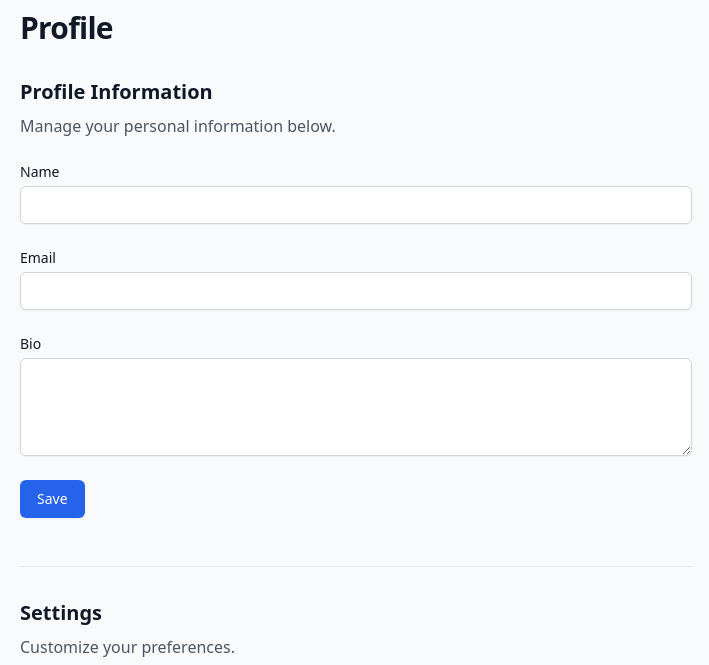
Test: Profile Component › Validation - Error Messages › displays error message when email format is invalid
The image size is (709, 665).
In the field labelled "Name": (356, 205) [20,186,692,224], type "John Doe"
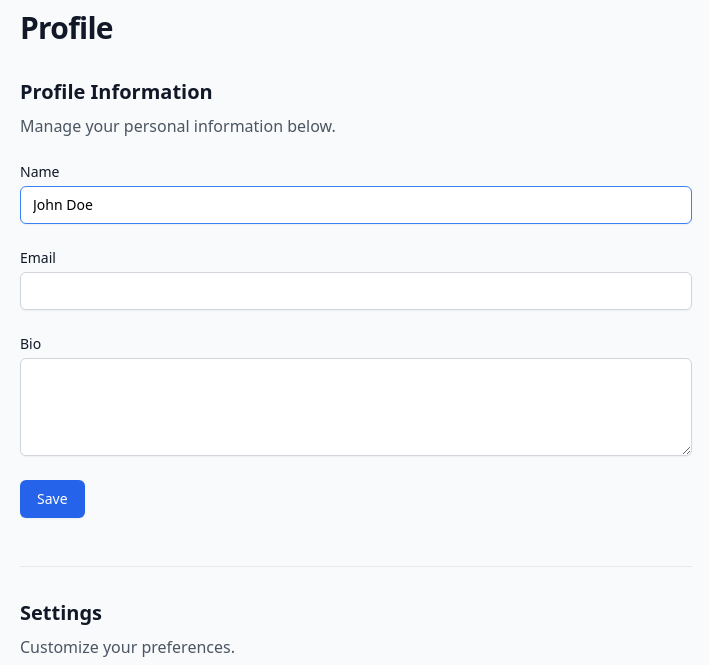
In the field labelled "Email": (356, 291) [20,272,692,310], type "invalid-email"
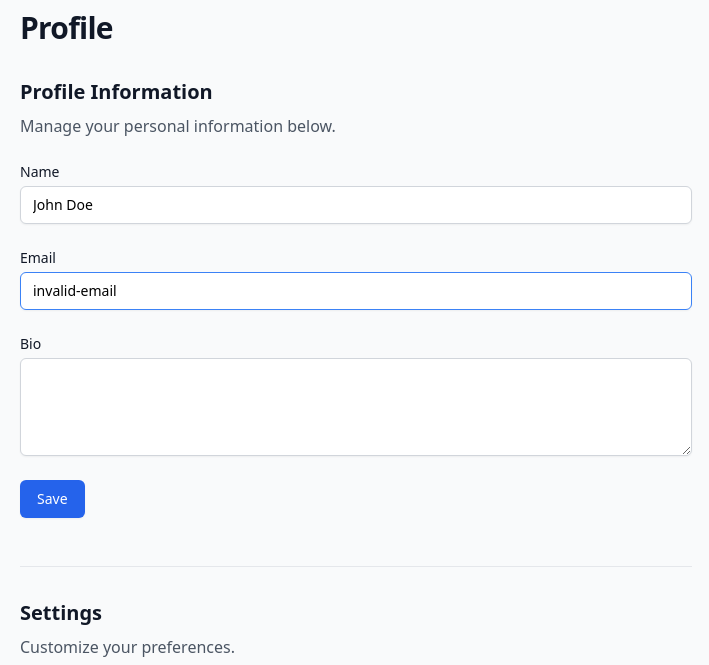
Click the button "Save": (52, 499) [20,480,85,518]
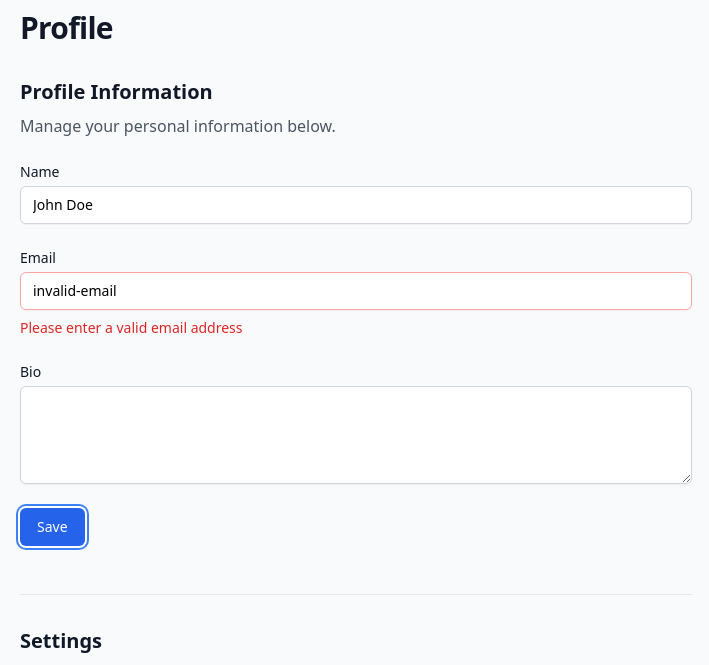
Expected: the text "Please enter a valid email address" is shown, [20,318,242,337]
